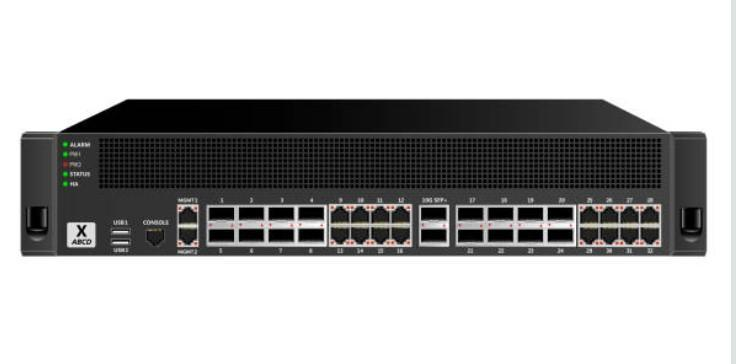NetworkSwitch: (19, 99, 711, 259)
